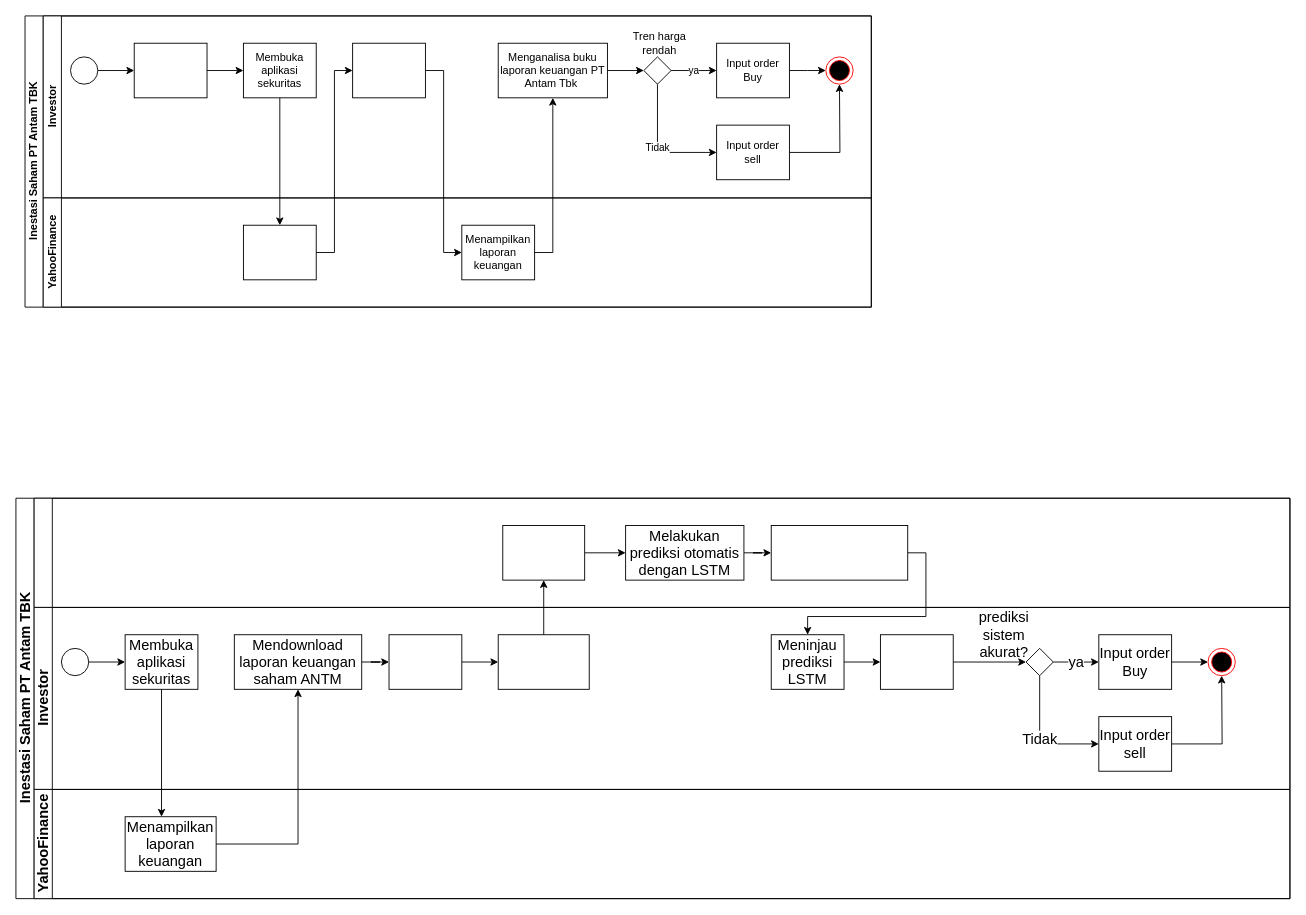
Some shapes in this 1306 by 915 pixel diagram are drawn without their labels. The shapes that lost their labels are listed below. From the top down, each one's box as (x1, y1, x2, y2) in pixels, then its label:
(133, 42, 207, 98): Membaca portal berita keuangan
(352, 42, 425, 98): Melihat Grafik penjualan
(243, 224, 316, 280): Menampilkan grafik penjualan
(502, 525, 585, 580): Membaca file laporan keuangan
(33, 497, 1290, 607): Sistem Prediksi
(770, 525, 908, 580): Menyajikan hasil prediksi dan tingkat akurasi model
(388, 634, 462, 689): Membuka aplikasi streamlit
(497, 634, 589, 689): Mengupload data laporan keuangan
(880, 634, 953, 689): Meninjau faktor eksternal
